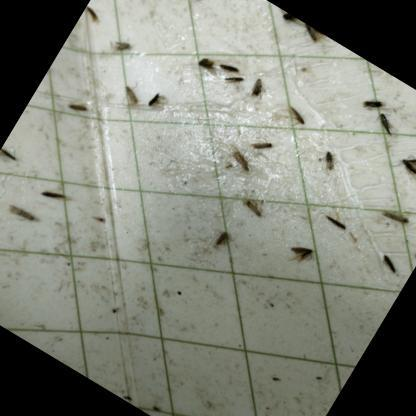prays_oleae: (274, 229, 321, 282), (374, 196, 414, 233), (370, 242, 406, 283), (4, 194, 42, 229), (114, 77, 148, 112), (224, 141, 258, 176), (354, 86, 388, 120), (0, 136, 25, 181), (280, 101, 312, 135), (239, 189, 271, 223), (394, 142, 416, 190), (317, 206, 351, 237), (75, 0, 106, 33), (106, 28, 136, 58), (214, 52, 243, 82), (37, 182, 68, 210), (247, 132, 278, 160), (312, 148, 340, 178), (192, 50, 220, 80), (208, 224, 236, 252), (247, 74, 272, 102), (64, 96, 89, 121), (370, 112, 395, 136), (220, 70, 244, 93), (180, 0, 206, 7)
